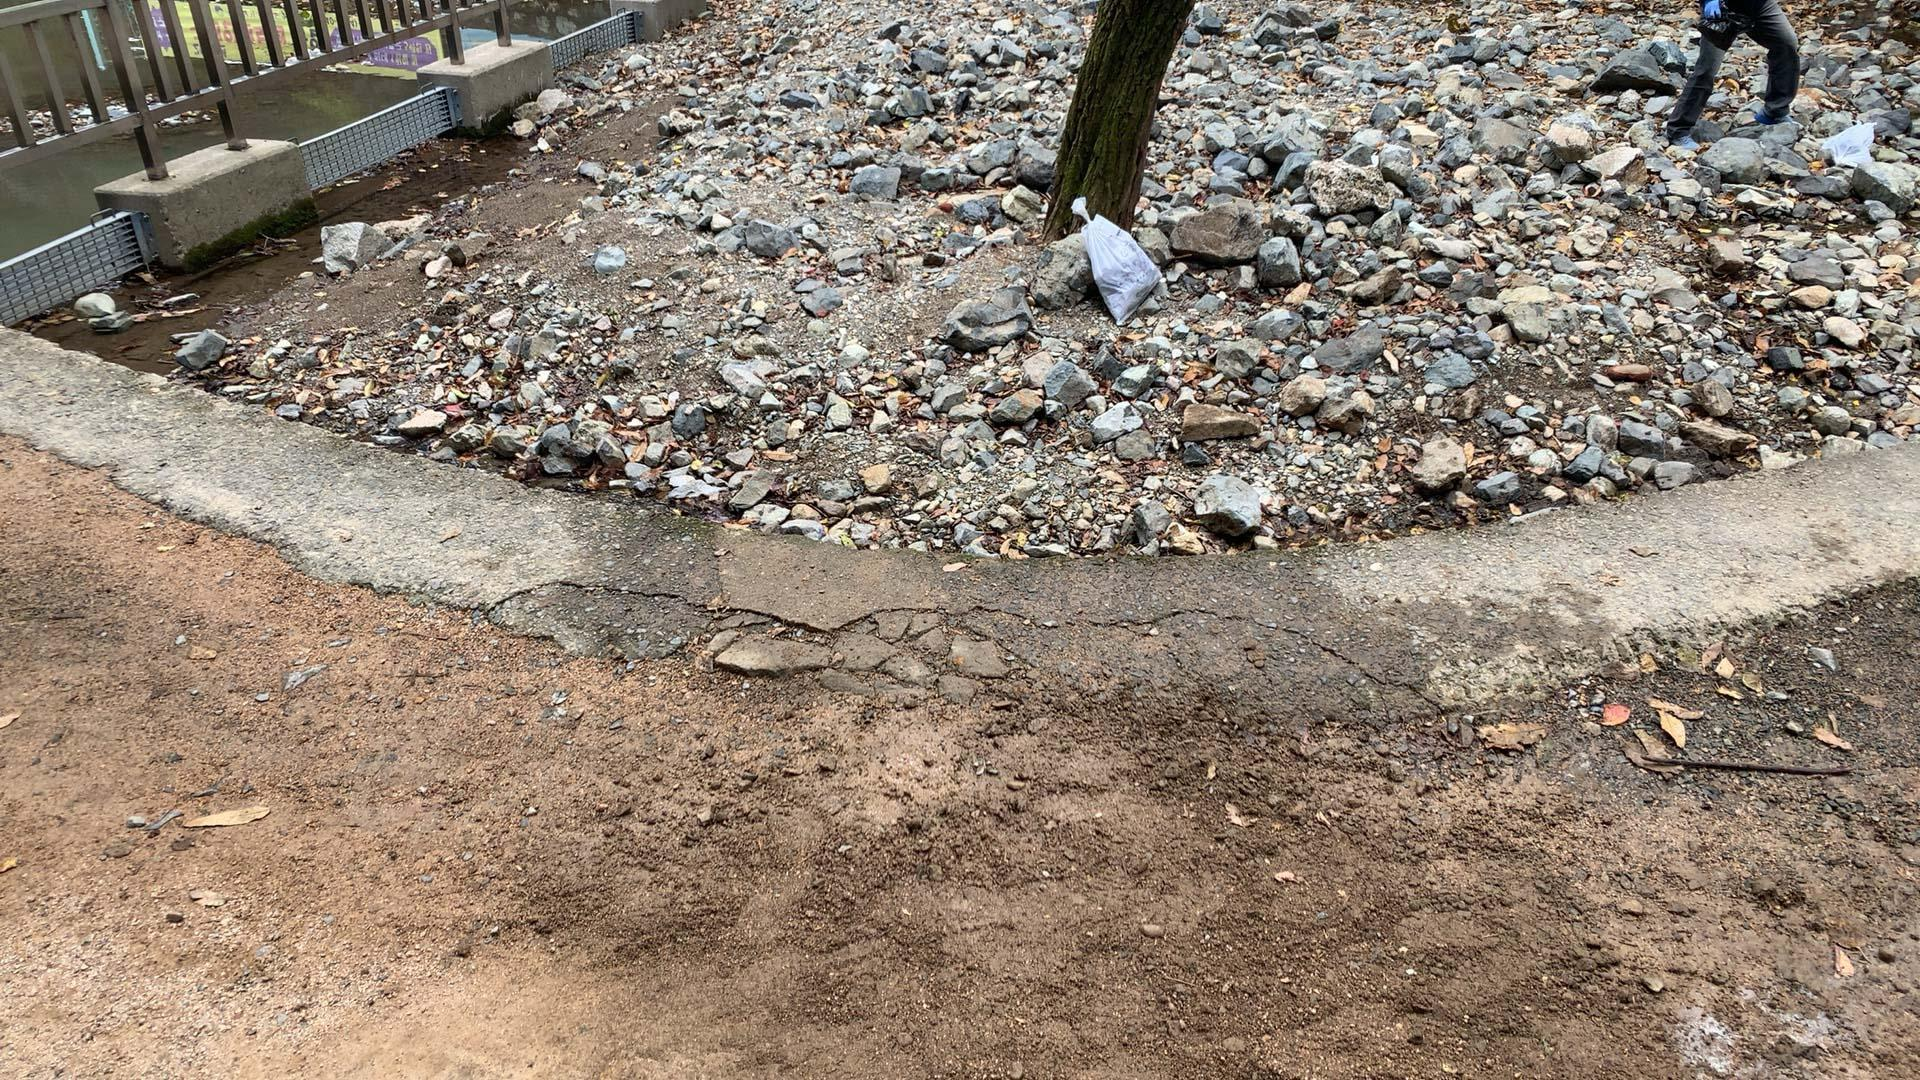white_bag: (1058, 189, 1179, 336), (1815, 115, 1883, 173)
